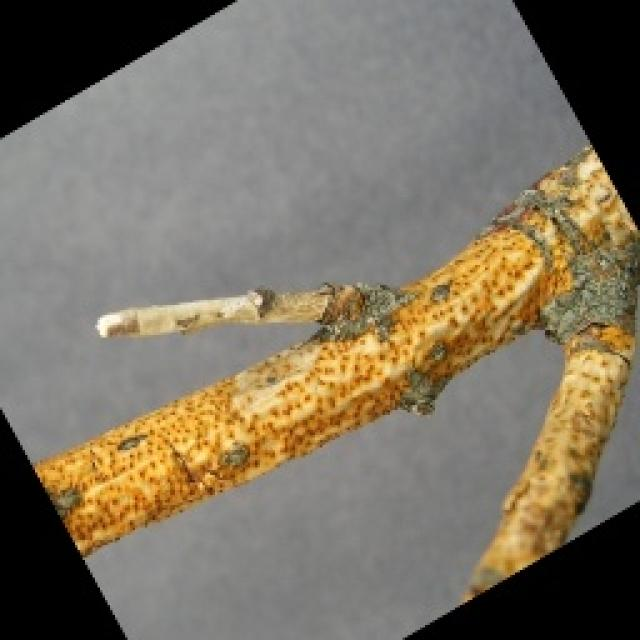Golden_canker: (0, 184, 640, 546)
